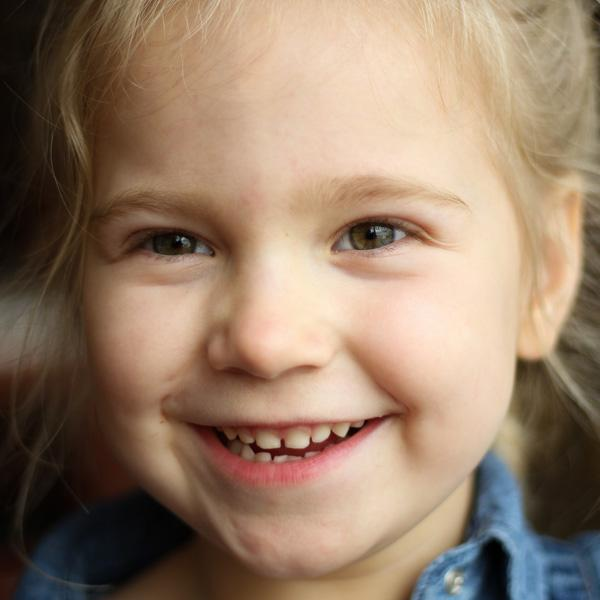Eyes: (319, 206, 438, 274), (112, 218, 226, 276)
